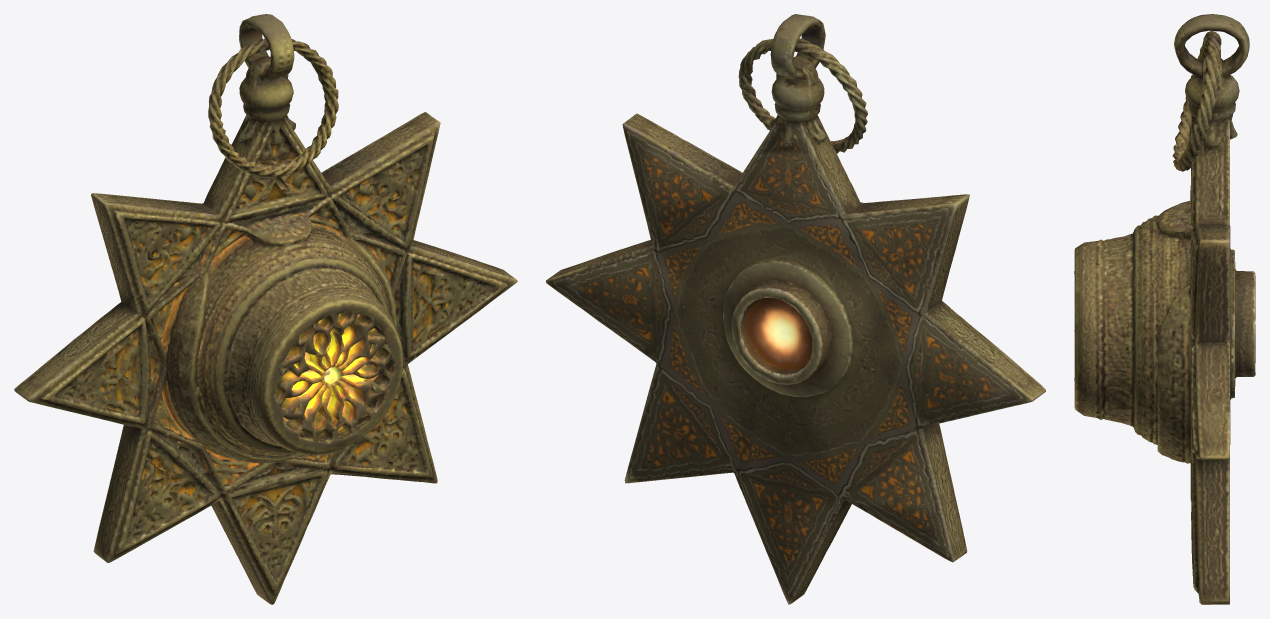
File: Eight_Pointed_Star_La.fbx
3 views of the same model, side by side, from view 1: azimuth 30°, elevation 25°; view 2: azimuth 150°, elevation 25°; view 3: azimuth 270°, elevation 25° (orthographic).
Visible parts, largest first — view 1: Eight_Pointed_Star_La_LOD0; view 2: Eight_Pointed_Star_La_LOD0; view 3: Eight_Pointed_Star_La_LOD0.
Part boxes in pixels (<box>): Eight_Pointed_Star_La_LOD0: <box>14,14,517,604</box>; Eight_Pointed_Star_La_LOD0: <box>546,14,1045,604</box>; Eight_Pointed_Star_La_LOD0: <box>1074,14,1255,604</box>.
Size of what is drawn, in the model's own units: 1.67 by 1.9 by 0.5319.
Materials: 1 (1 with a texture image).
